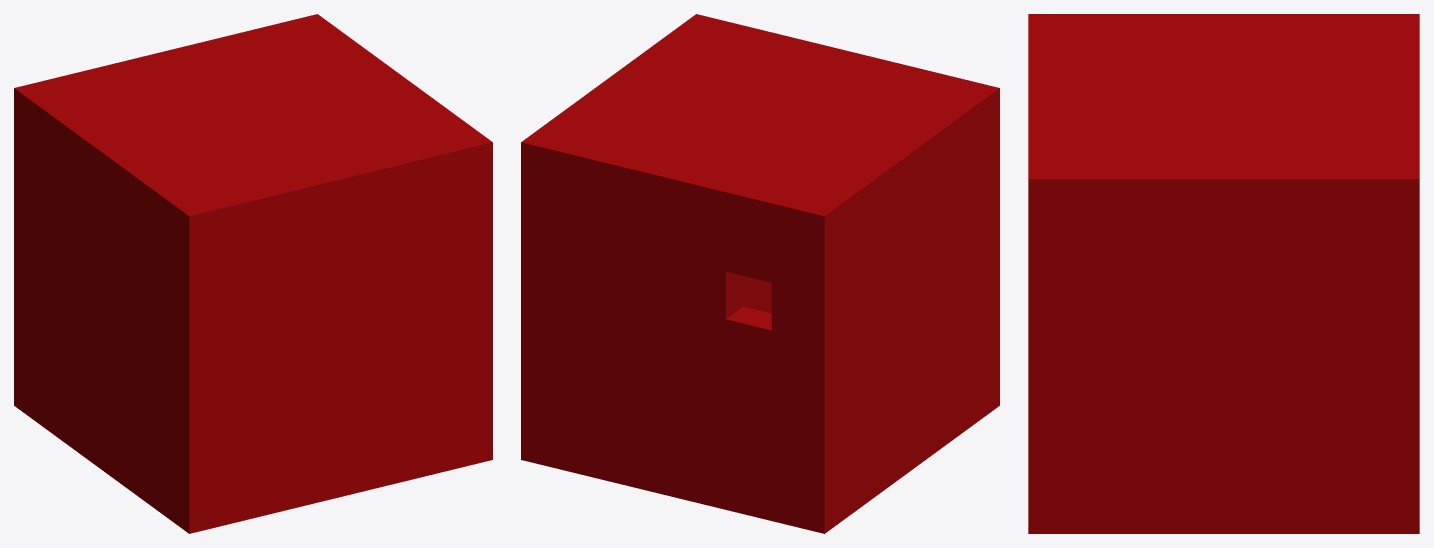
File: tworooms.dae
3 views of the same model, side by side, from view 1: azimuth 30°, elevation 25°; view 2: azimuth 150°, elevation 25°; view 3: azimuth 270°, elevation 25° (orthographic). The views are drawn at different scales.
Parts seen in each view (by area): view 1: instance_0; view 2: instance_0; view 3: instance_0.
Boxes of the visible parts, bbox=[...] form: instance_0: bbox=[14, 14, 492, 533]; instance_0: bbox=[521, 14, 999, 533]; instance_0: bbox=[1028, 14, 1419, 533].
Size of the model in its own units: 10 by 10 by 10.
